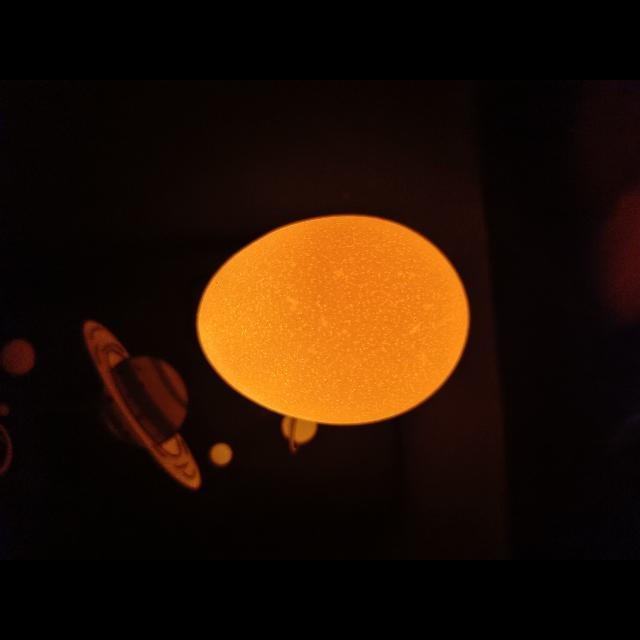AA - Premium: (196, 215, 470, 425)
